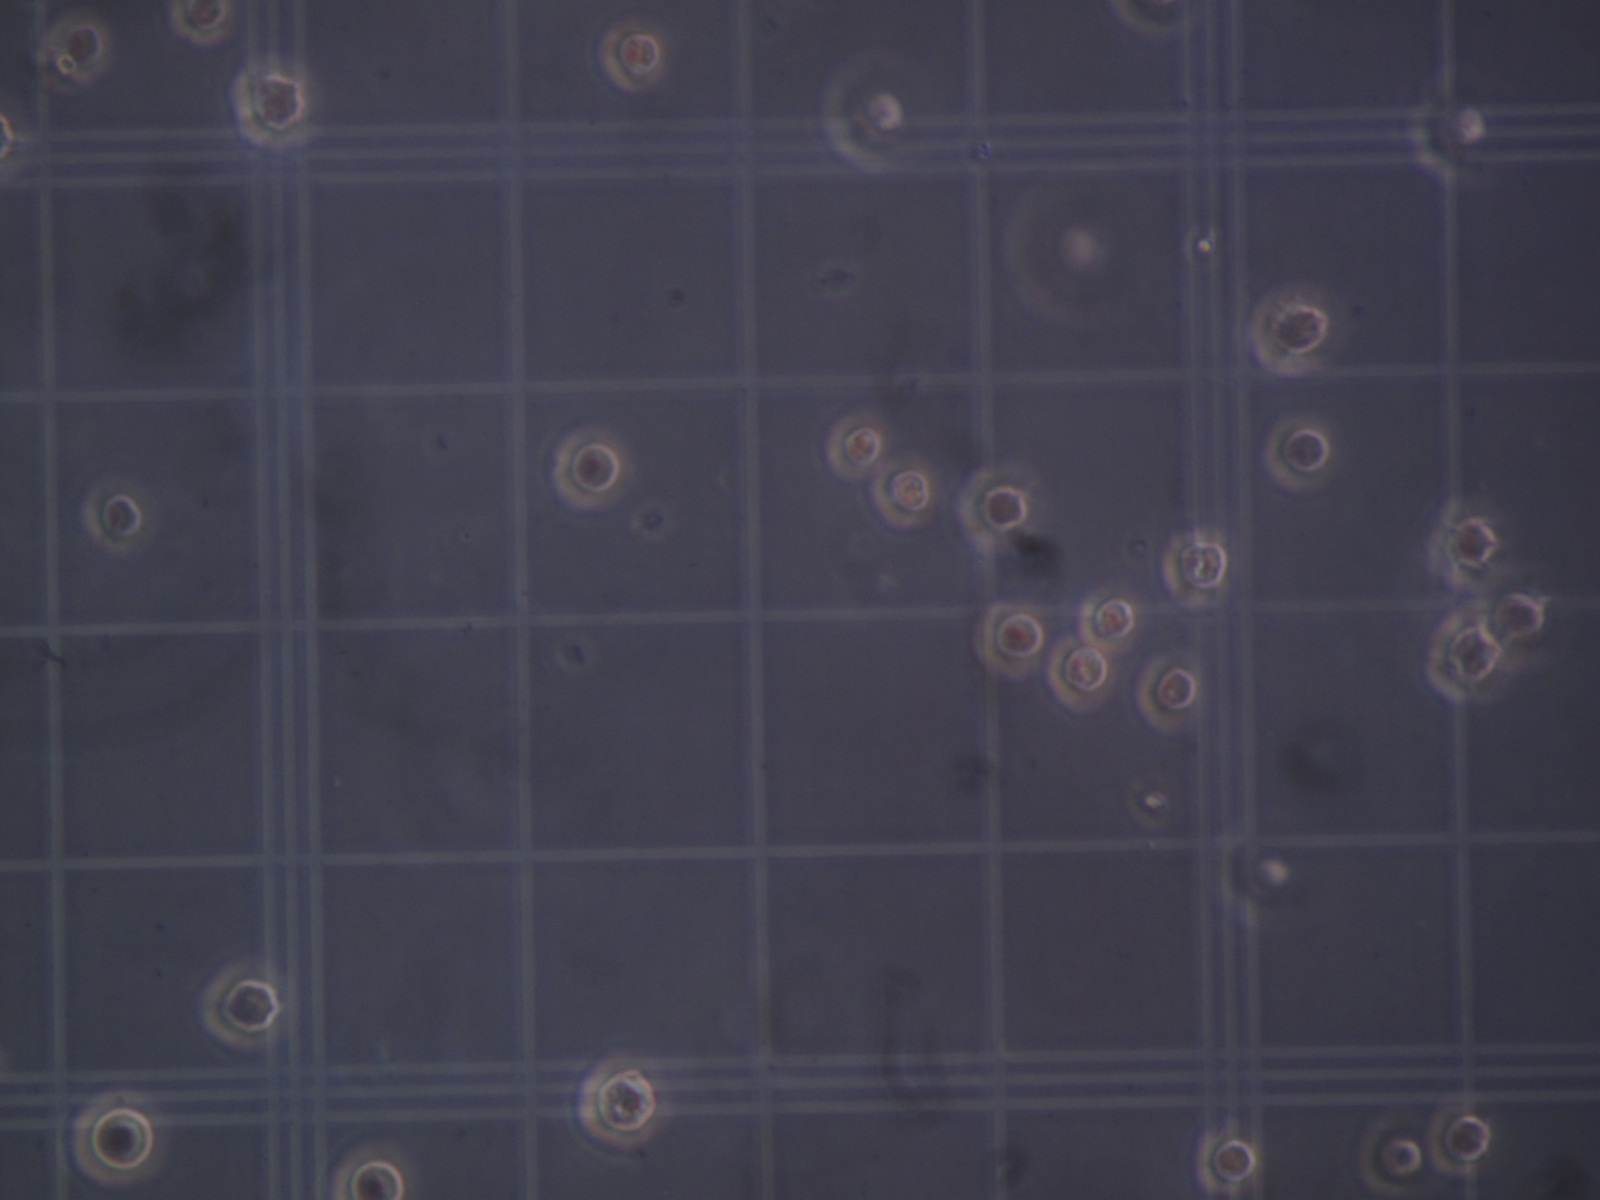hemo: (1002, 185, 1112, 328), (820, 59, 911, 171), (72, 1090, 168, 1185), (1409, 84, 1494, 187), (198, 958, 289, 1047), (1249, 287, 1339, 376), (577, 1054, 663, 1146), (1425, 614, 1507, 703), (231, 61, 311, 149), (551, 426, 630, 511), (1426, 500, 1497, 587), (957, 468, 1028, 552), (1488, 579, 1552, 671), (1358, 1113, 1424, 1197), (973, 601, 1044, 678), (1264, 415, 1332, 492), (1162, 532, 1228, 609), (1047, 637, 1114, 712), (81, 478, 145, 555), (333, 1141, 416, 1200), (1135, 654, 1198, 732), (598, 23, 665, 93), (871, 458, 936, 529), (1427, 1105, 1492, 1176), (47, 16, 111, 81), (1196, 1131, 1259, 1195), (825, 413, 884, 480), (1078, 587, 1136, 650), (1, 97, 33, 184), (168, 1, 231, 44)
